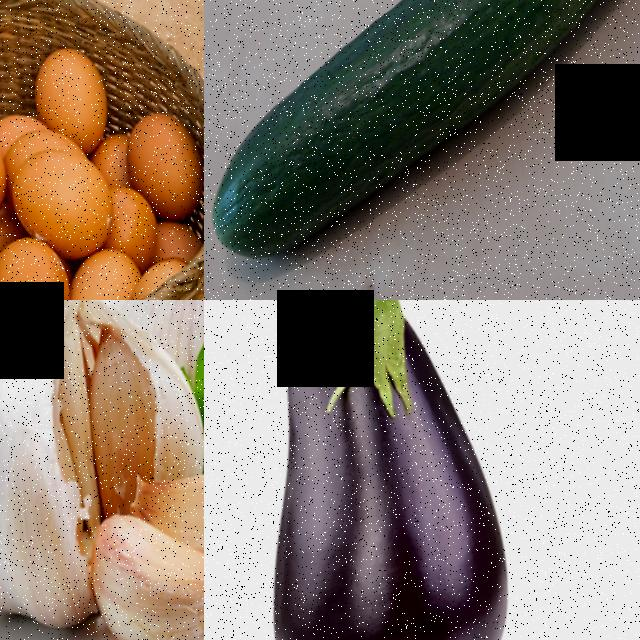cucumber: (204, 0, 640, 288)
egg_: (4, 134, 127, 241), (23, 31, 124, 134), (121, 96, 204, 213), (0, 221, 94, 300), (0, 93, 25, 226)
eggplant: (204, 300, 594, 640)
garlic: (0, 313, 148, 640), (64, 310, 204, 516), (79, 494, 204, 640), (127, 433, 204, 578)
